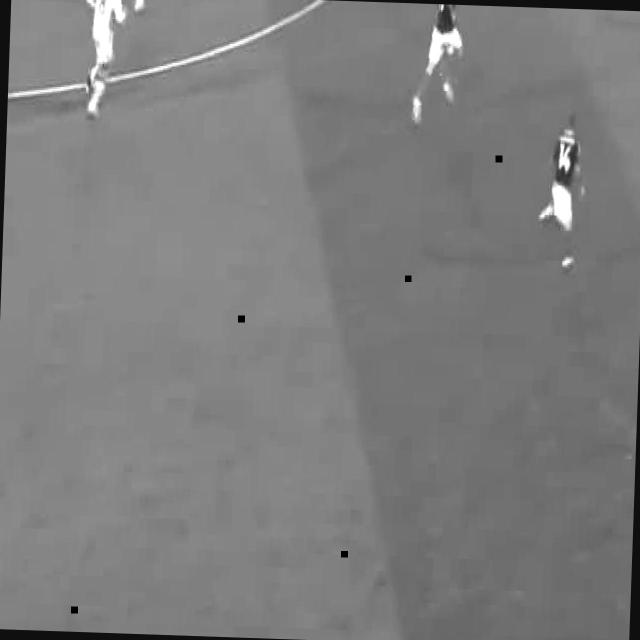player-white: (536, 109, 586, 271), (411, 3, 463, 127), (80, 0, 126, 119), (133, 0, 163, 13)
